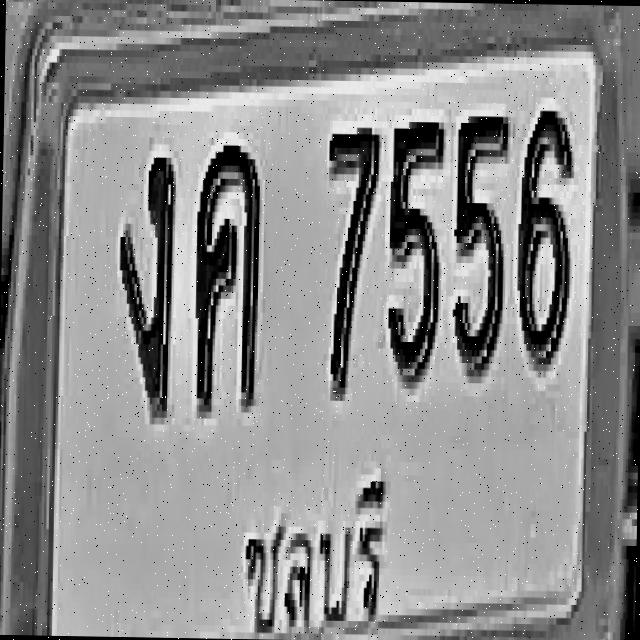13KhorKhwai: (192, 138, 262, 412)
16NgorNgu: (116, 150, 174, 417)
5: (384, 115, 444, 382), (451, 110, 508, 376)
6: (516, 104, 572, 371)
7: (322, 124, 379, 398)
Chonburi: (231, 444, 392, 640)
